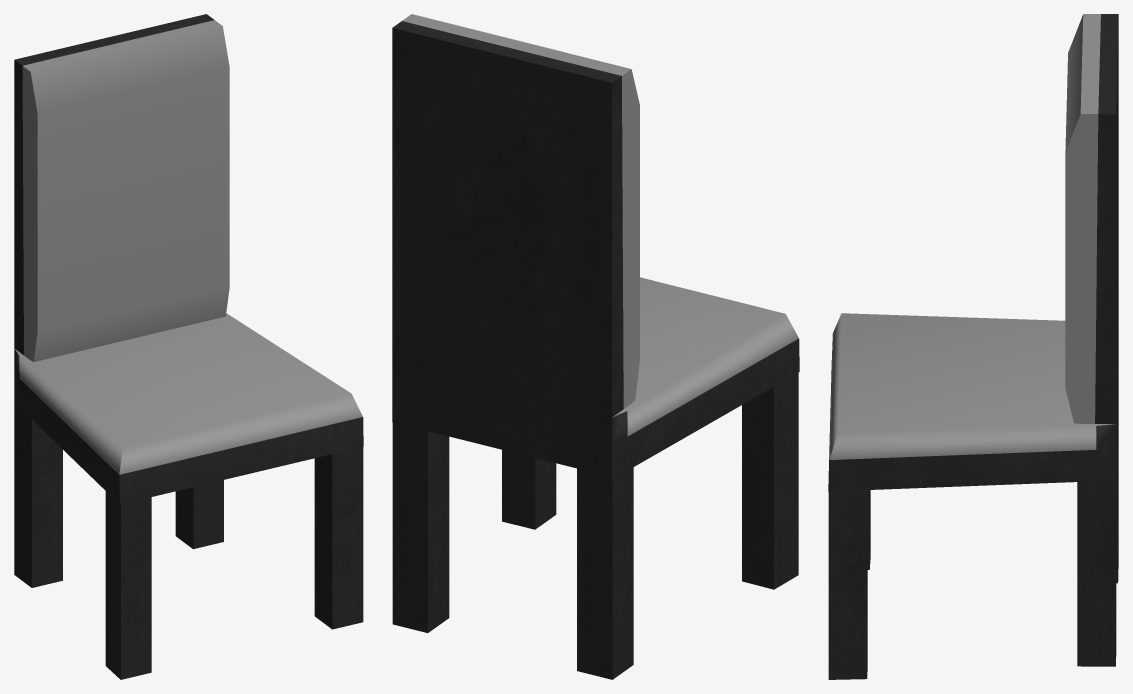
Rendered from Chair.fbx.
3 views of the same model, side by side, from view 1: azimuth 30°, elevation 25°; view 2: azimuth 150°, elevation 25°; view 3: azimuth 270°, elevation 25° (orthographic). The views are drawn at different scales.
Visible parts, largest first — view 1: Chair1_Chair_Seat; view 2: Chair1_Chair_Seat; view 3: Chair1_Chair_Seat.
Boxes of the visible parts, box(x1,y1,x2,y2) form: Chair1_Chair_Seat: box(14, 14, 363, 679); Chair1_Chair_Seat: box(392, 14, 799, 679); Chair1_Chair_Seat: box(828, 14, 1118, 679).
Bounding box in the file's own units: 54.48 × 111 × 52.68.
